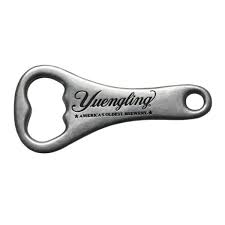bottleopener: (14, 65, 212, 154)
